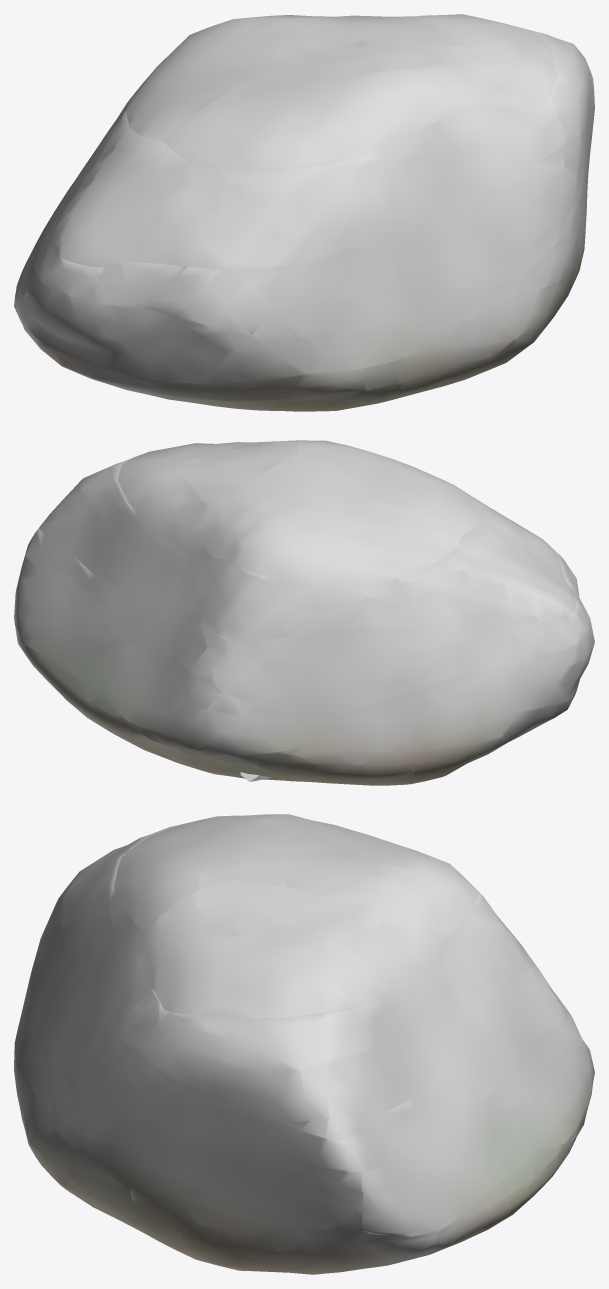
File: coal_rock_v8.glb
3 renders of one model, top to bottom at view 1: azimuth 30°, elevation 25°; view 2: azimuth 150°, elevation 25°; view 3: azimuth 270°, elevation 25°, orthographic. The views are drawn at different scales.
Visible parts, largest first — view 1: Chunk_23, Chunk_28, Chunk_17, Chunk_10, Chunk_18, Chunk_29, Chunk_22, Chunk_24, Chunk_27, Chunk_11, Chunk_05, Chunk_04 (+5 smaller); view 2: Chunk_15, Chunk_27, Chunk_22, Chunk_08, Chunk_29, Chunk_21, Chunk_25, Chunk_07, Chunk_09, Chunk_28, Chunk_02, Chunk_14 (+7 smaller); view 3: Chunk_29, Chunk_25, Chunk_12, Chunk_07, Chunk_00, Chunk_18, Chunk_28, Chunk_14, Chunk_19, Chunk_30, Chunk_08, Chunk_24 (+7 smaller).
Boxes of the visible parts, <box> form: Chunk_23: <box>129,146,418,269</box>; Chunk_28: <box>163,58,456,168</box>; Chunk_17: <box>93,233,405,338</box>; Chunk_10: <box>16,245,316,383</box>; Chunk_18: <box>397,130,585,291</box>; Chunk_29: <box>315,14,557,110</box>; Chunk_22: <box>52,96,188,267</box>; Chunk_24: <box>396,102,570,211</box>; Chunk_27: <box>126,17,283,140</box>; Chunk_11: <box>311,283,513,371</box>; Chunk_05: <box>392,267,576,399</box>; Chunk_04: <box>154,362,399,411</box>; Chunk_15: <box>211,625,465,717</box>; Chunk_27: <box>229,489,460,586</box>; Chunk_22: <box>364,523,575,631</box>; Chunk_08: <box>105,645,332,756</box>; Chunk_29: <box>117,440,298,554</box>; Chunk_21: <box>174,555,369,640</box>; Chunk_25: <box>39,457,190,590</box>; Chunk_07: <box>14,553,129,692</box>; Chunk_09: <box>328,668,511,746</box>; Chunk_28: <box>297,440,480,535</box>; Chunk_02: <box>174,738,414,785</box>; Chunk_14: <box>93,583,226,682</box>; Chunk_29: <box>145,880,447,1017</box>; Chunk_25: <box>146,960,467,1139</box>; Chunk_12: <box>48,1098,362,1230</box>; Chunk_07: <box>361,1088,534,1236</box>; Chunk_00: <box>130,1188,439,1274</box>; Chunk_18: <box>45,966,183,1123</box>; Chunk_28: <box>114,815,287,934</box>; Chunk_14: <box>425,967,565,1113</box>; Chunk_19: <box>182,1085,434,1172</box>; Chunk_30: <box>232,851,465,943</box>; Chunk_08: <box>502,1012,594,1149</box>; Chunk_24: <box>83,905,163,1056</box>.
Bounding box in the file's own units: 2.77 × 1.26 × 2.11.
